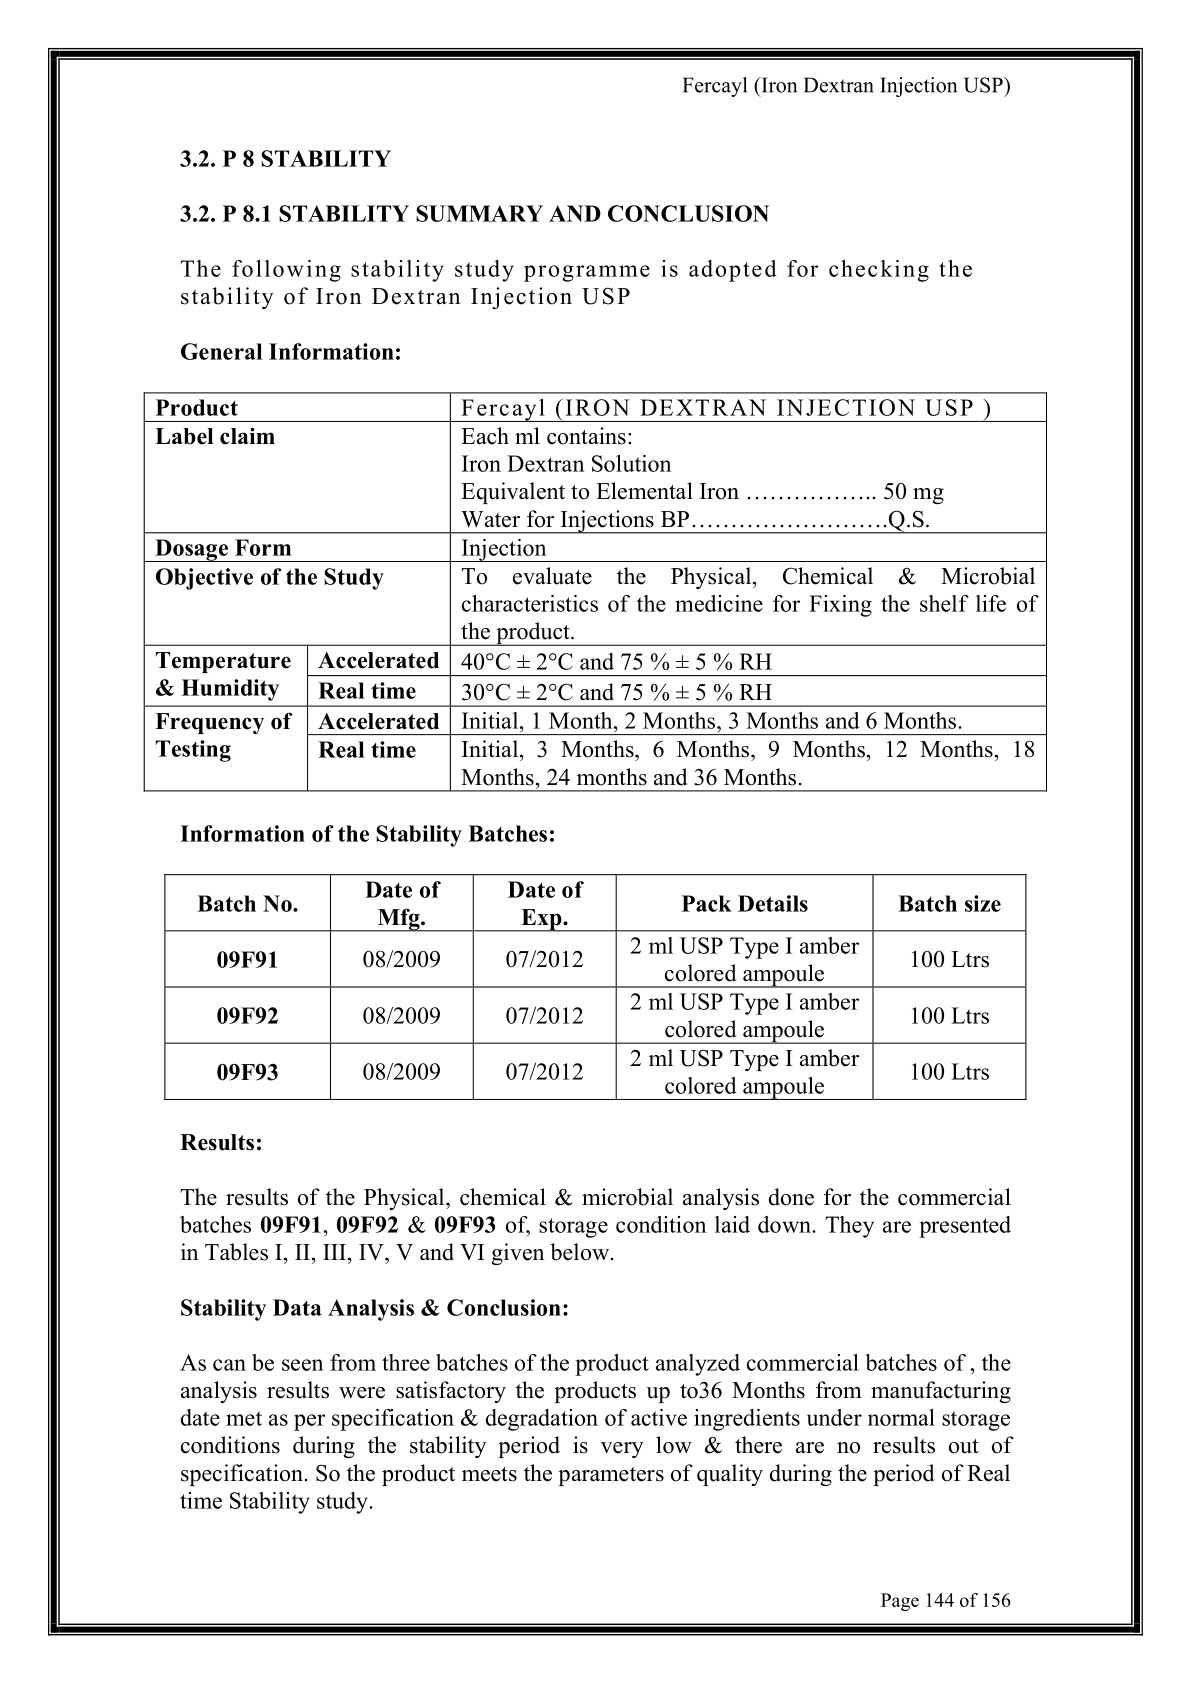full_lined: (164, 874, 1027, 1100)
merged_cells: (143, 390, 1048, 792)
